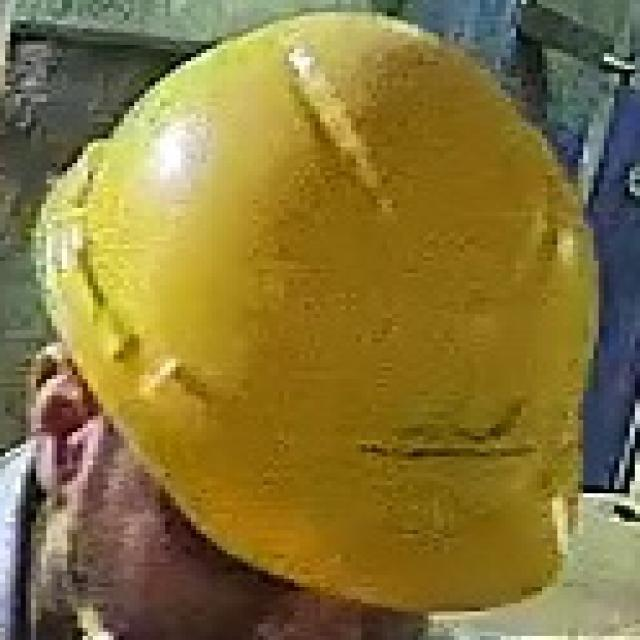yellow helmet: (26, 14, 586, 616)
